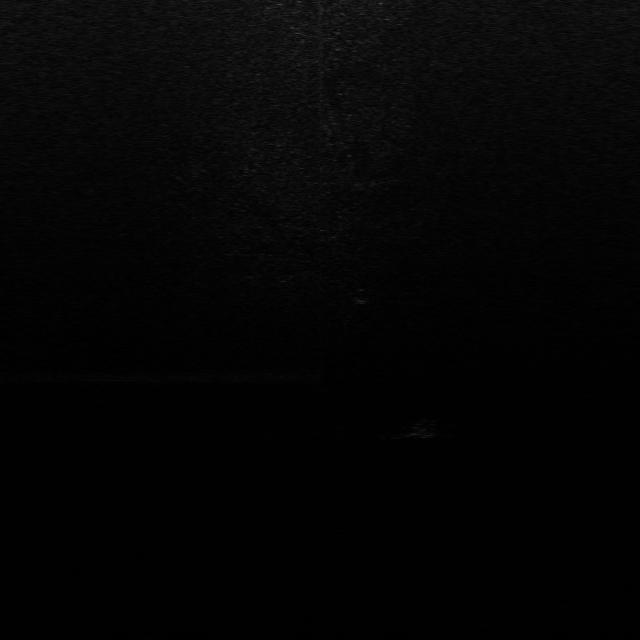ball: (413, 418, 441, 438)
circle cage: (350, 288, 376, 304)
